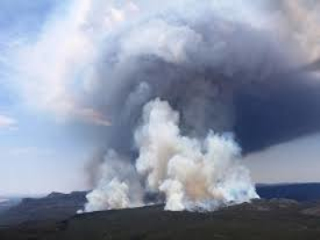smoke: (99, 104, 260, 212)
